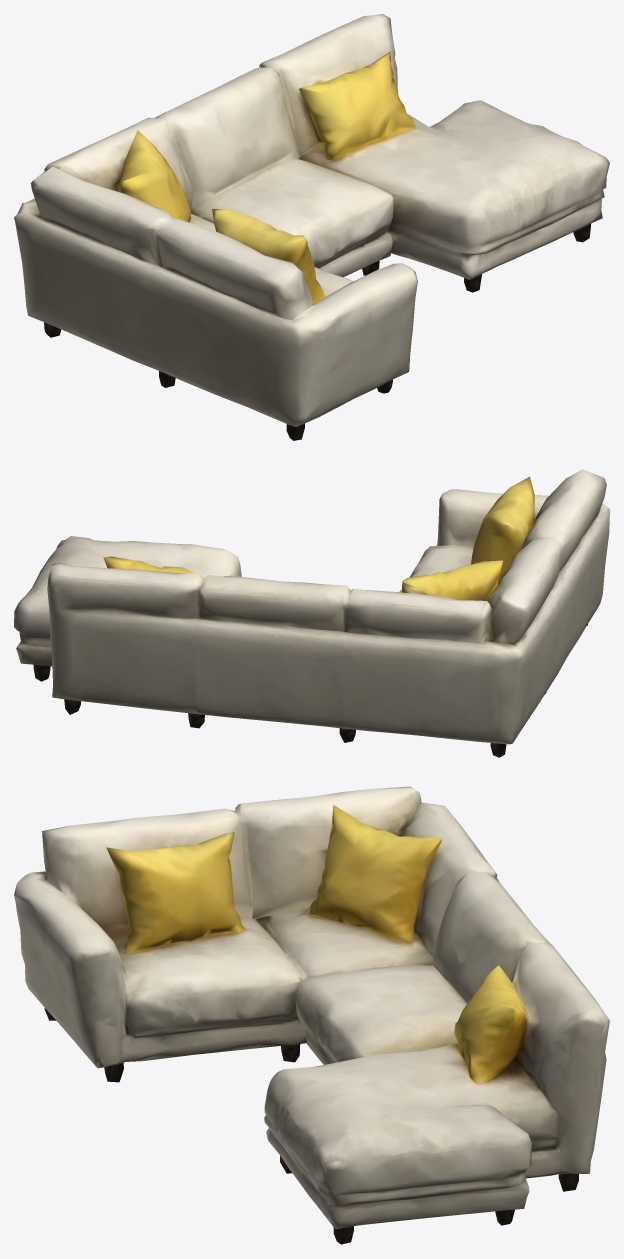
Rendered from sectional.glb.
3 renders of one model, top to bottom at view 1: azimuth 30°, elevation 25°; view 2: azimuth 150°, elevation 25°; view 3: azimuth 270°, elevation 25°, orthographic. The views are drawn at different scales.
Visible parts, largest first — view 1: tripo_node_e417d27d-734f-4d42-bce1-26c358d95e0f; view 2: tripo_node_e417d27d-734f-4d42-bce1-26c358d95e0f; view 3: tripo_node_e417d27d-734f-4d42-bce1-26c358d95e0f.
Boxes of the visible parts, x1=… form: tripo_node_e417d27d-734f-4d42-bce1-26c358d95e0f: x1=14, y1=14, x2=609, y2=440; tripo_node_e417d27d-734f-4d42-bce1-26c358d95e0f: x1=14, y1=469, x2=609, y2=757; tripo_node_e417d27d-734f-4d42-bce1-26c358d95e0f: x1=14, y1=786, x2=609, y2=1244.
Bounding box in the file's own units: 1 × 0.3064 × 0.8613.
1 material, 1 textured.
